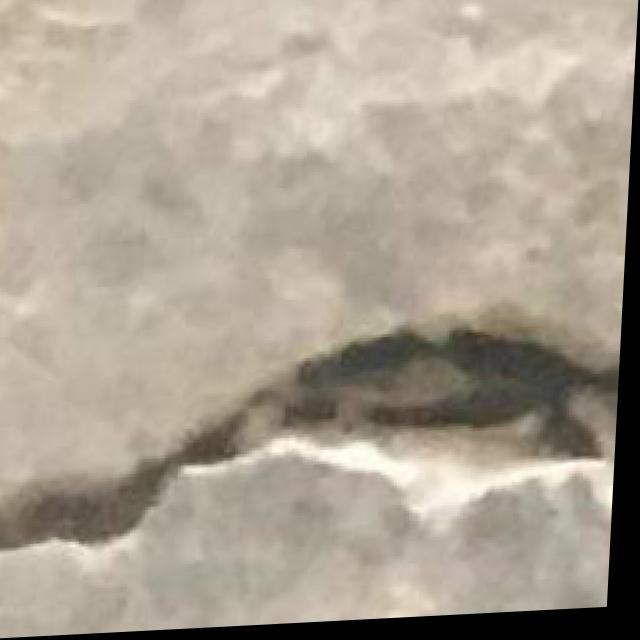Crack: (0, 297, 593, 604)
